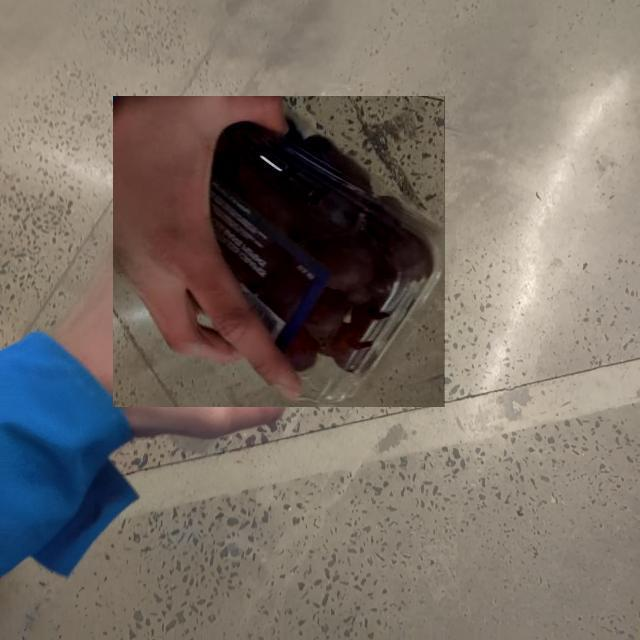Grapes: (114, 96, 448, 407)
